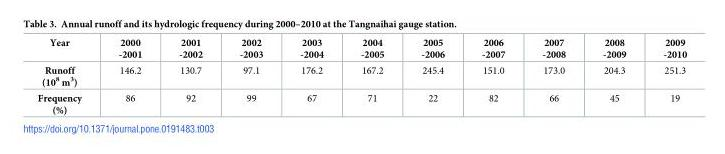table: (36, 37, 686, 114)
table column: (36, 37, 99, 114), (159, 37, 220, 114), (280, 37, 341, 114), (341, 37, 402, 114), (462, 37, 523, 114), (583, 37, 644, 114), (99, 37, 159, 114), (220, 37, 280, 114), (402, 37, 462, 114), (523, 37, 583, 114), (644, 37, 686, 114)
table column header: (36, 37, 686, 62)
table row: (36, 62, 686, 89), (36, 37, 686, 62), (36, 89, 686, 114)
